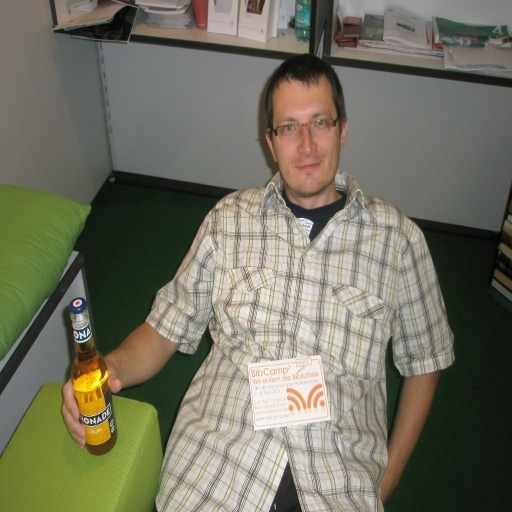hand: (62, 378, 122, 448)
